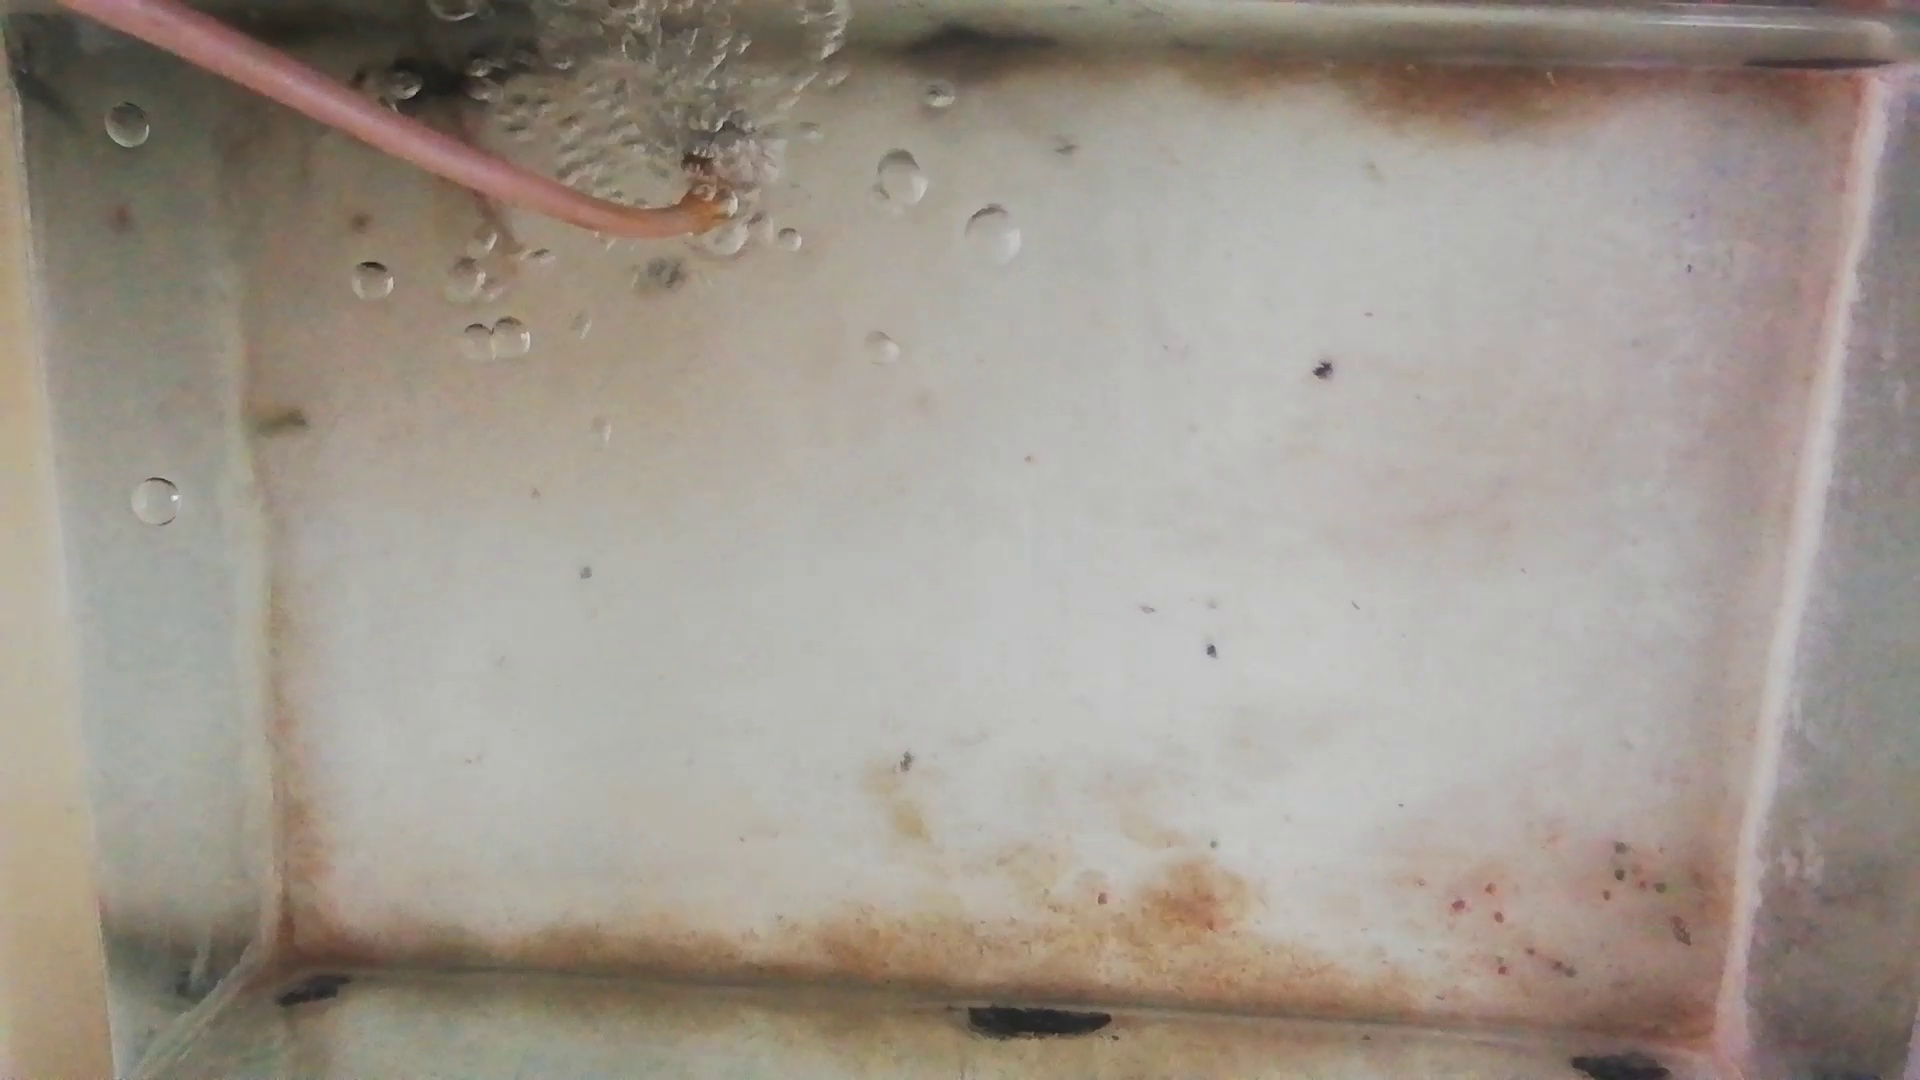fish: (353, 36, 558, 99), (460, 175, 516, 258)
